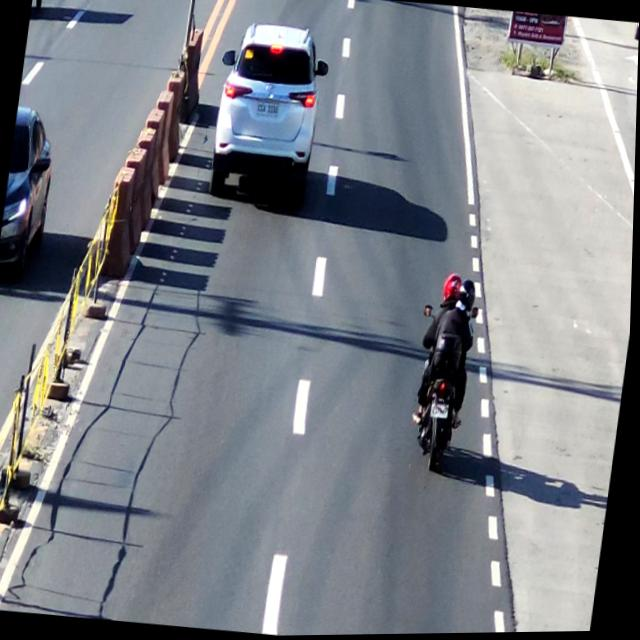Car: (208, 21, 324, 203)
License-Plate: (431, 398, 454, 423), (257, 101, 283, 120)
Motorcycle: (409, 270, 488, 476)
